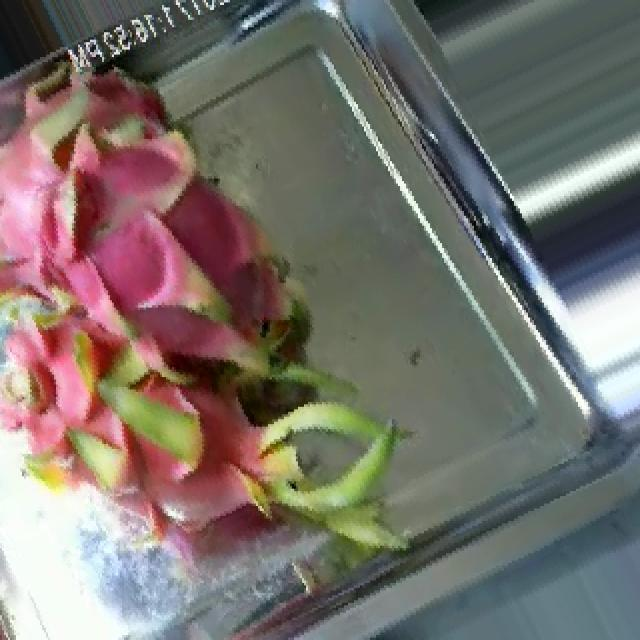Fruit: (388, 0, 548, 32)
